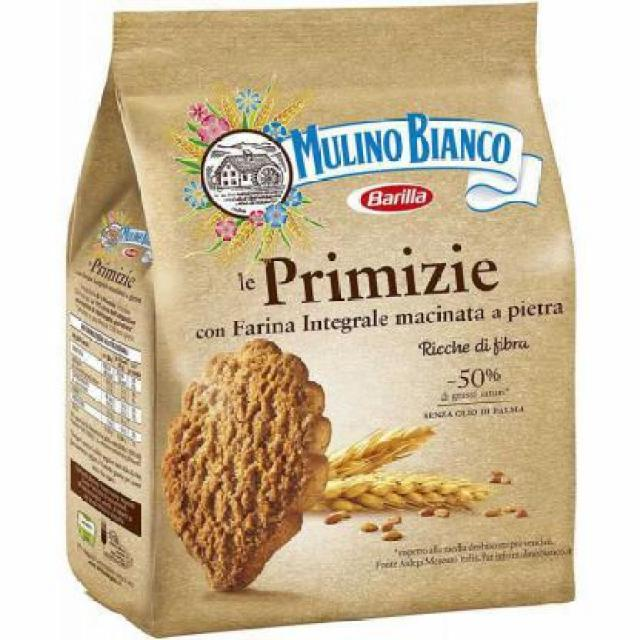Merendine: (44, 21, 598, 630)
